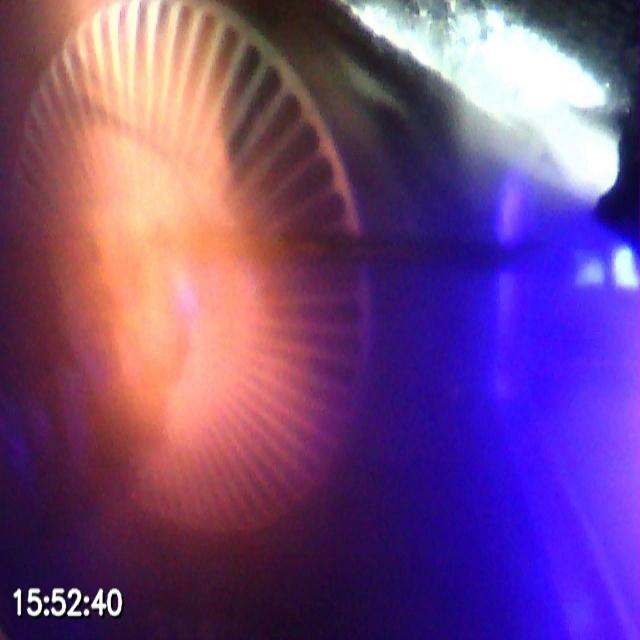white-dots: (572, 242, 640, 292)
